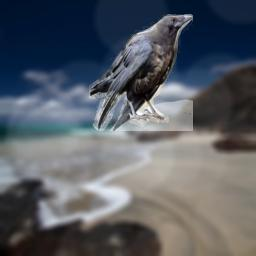Crow: (89, 14, 193, 131)
